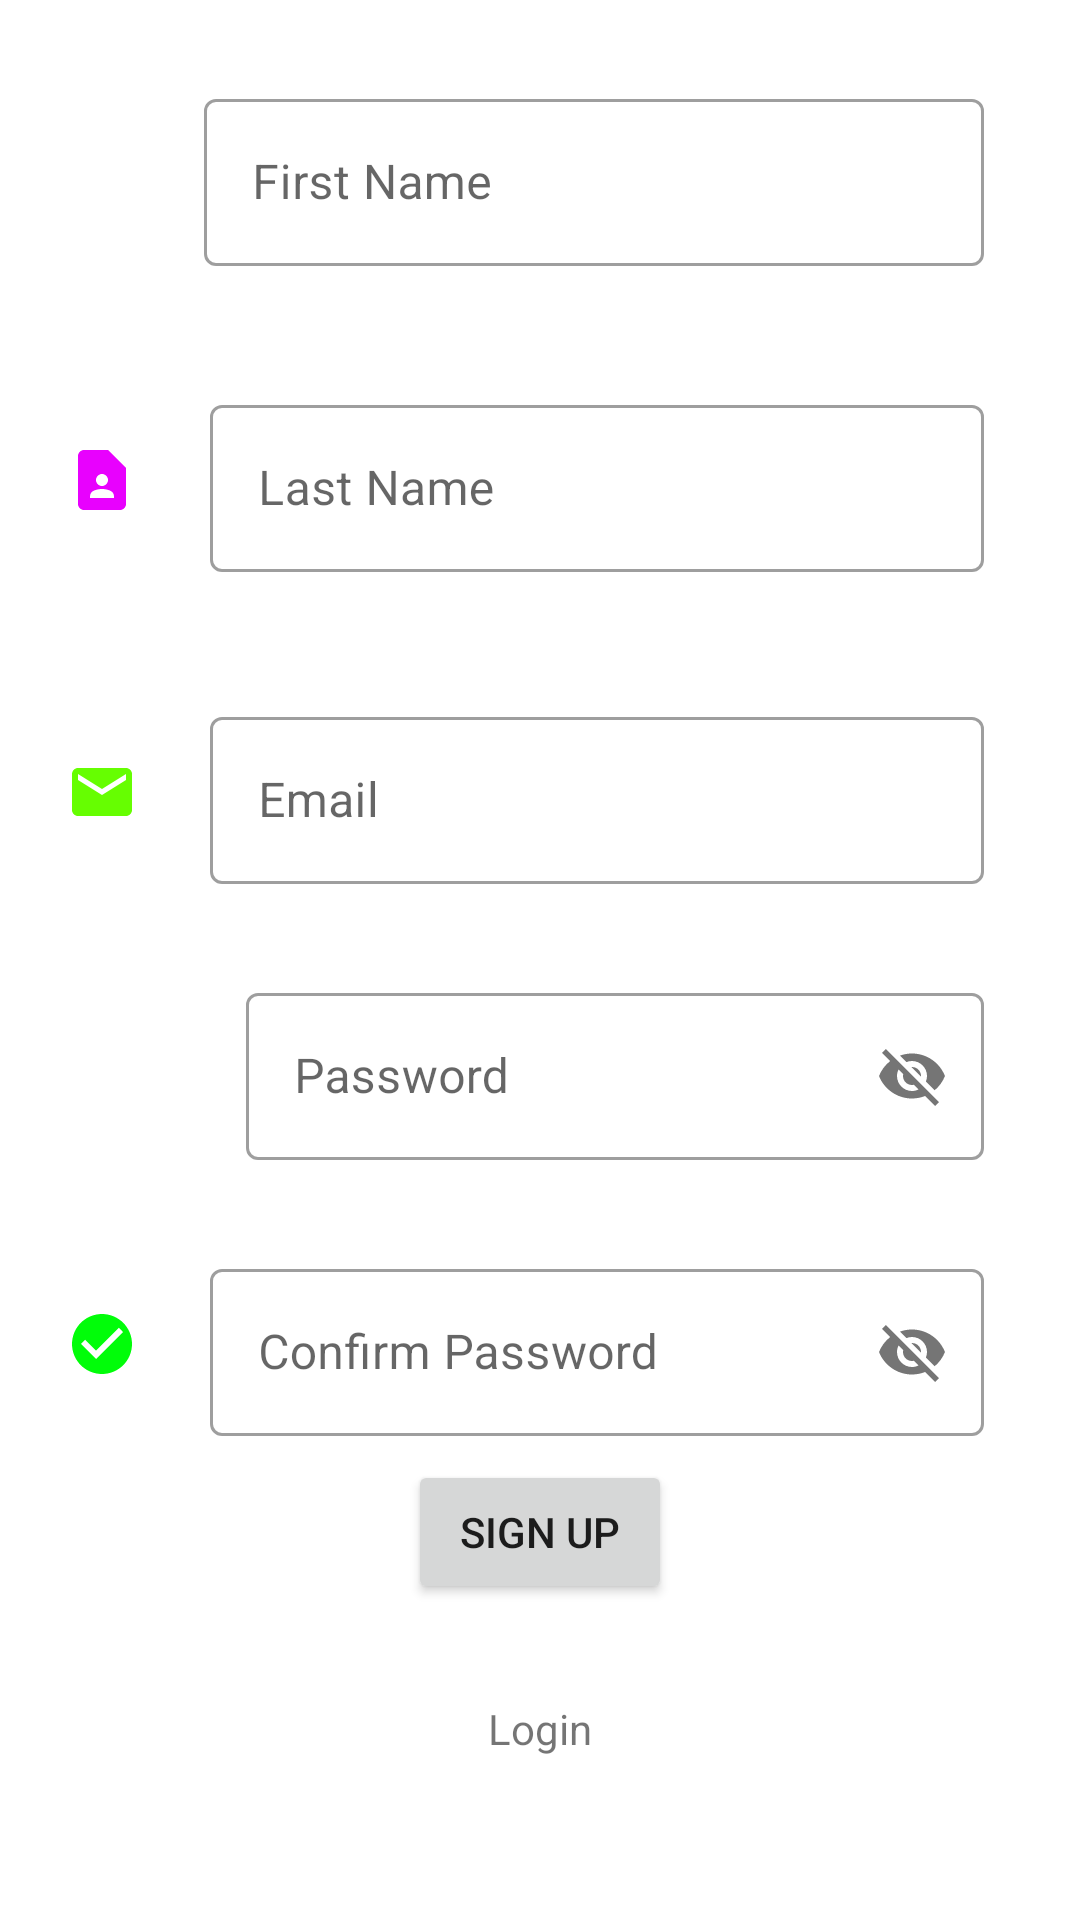

Icons on this 1080px×1920px Android screen, each with the point to tap as [x,y]:
check circle: [102,1344]
contact page: [102,480]
